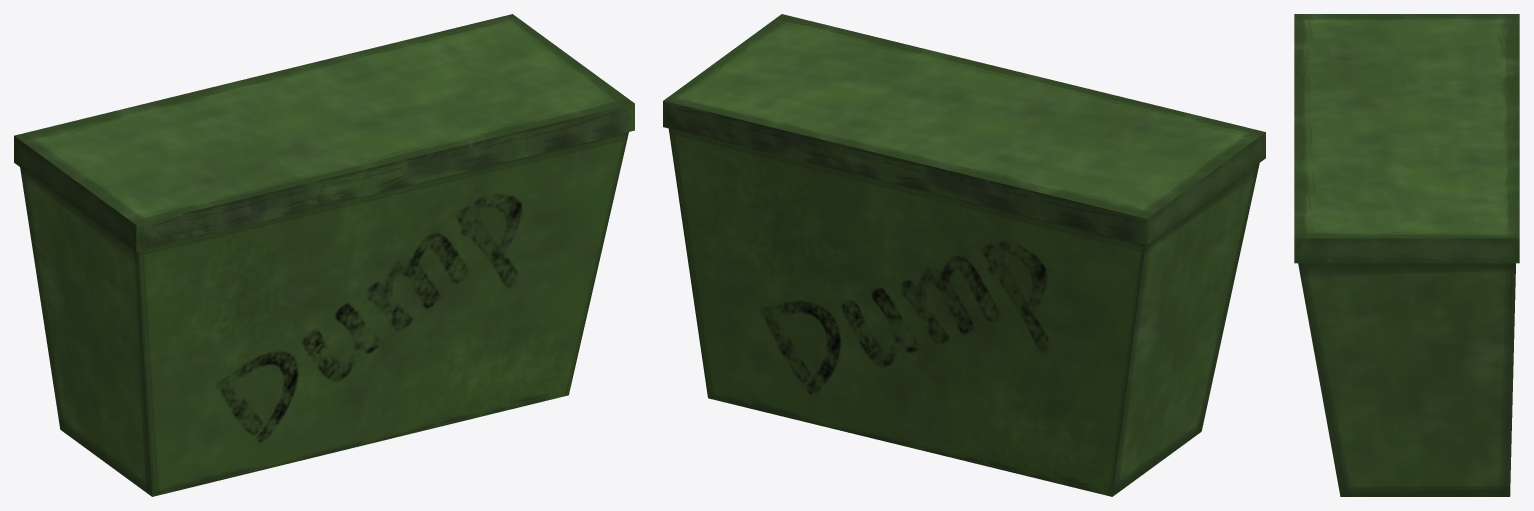
Rendered from urn.FBX.
3 renders of one model, left to right at view 1: azimuth 30°, elevation 25°; view 2: azimuth 150°, elevation 25°; view 3: azimuth 270°, elevation 25°, orthographic. The views are drawn at different scales.
Visible parts, largest first — view 1: Box001; view 2: Box001; view 3: Box001.
Part boxes in pixels (box(x1,y1,x2,y2)): Box001: box(14, 14, 634, 496); Box001: box(663, 14, 1265, 496); Box001: box(1294, 14, 1519, 496).
Size of the model in its own units: 1.22 by 0.7 by 0.5167.
Materials: 1 (1 with a texture image).
